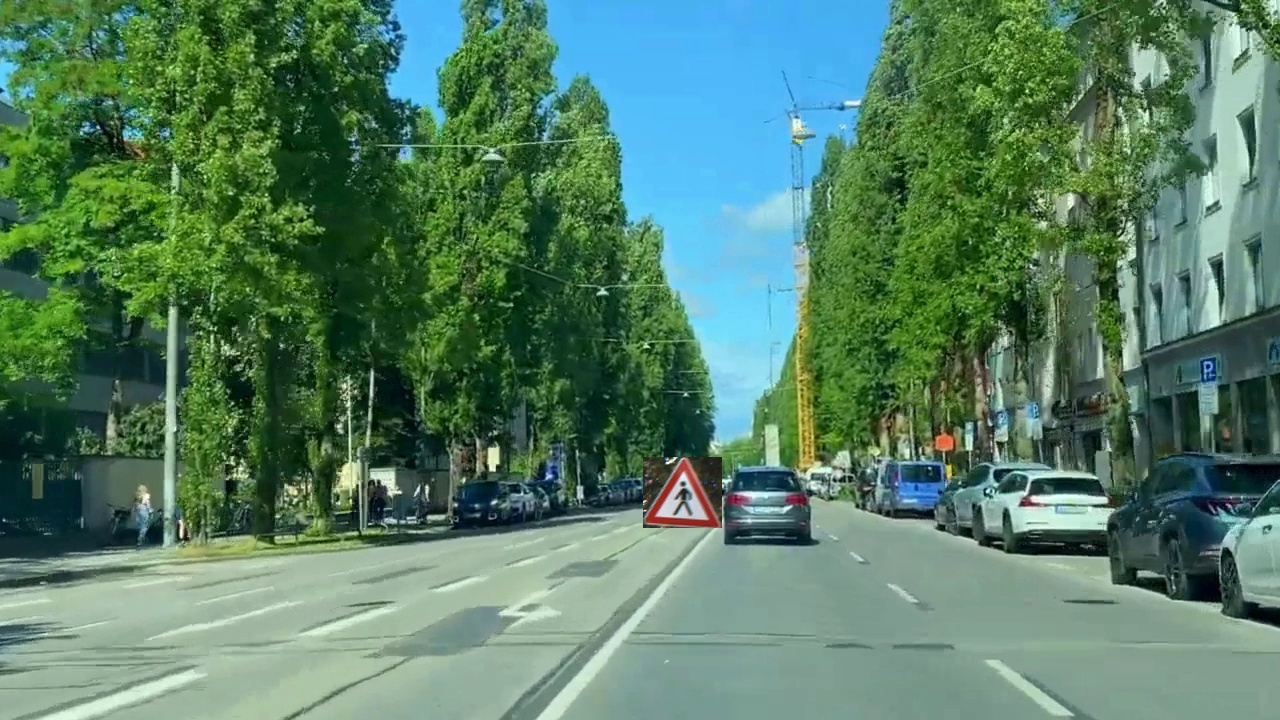Pedestrians: (643, 457, 722, 528)
